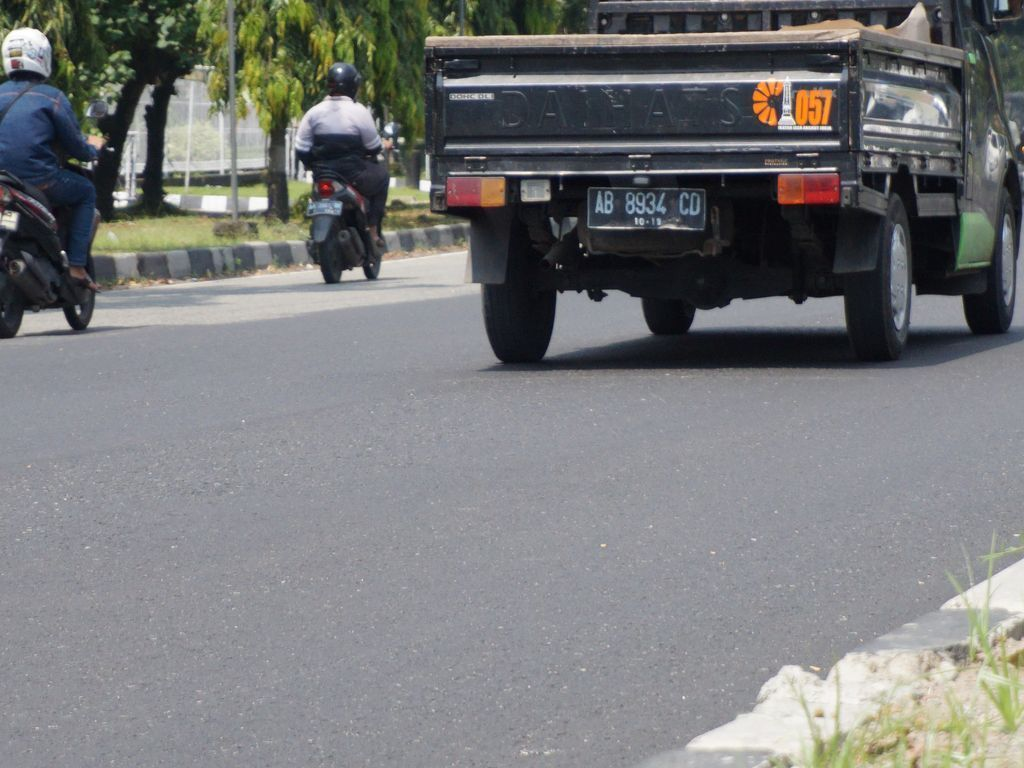plate: (590, 190, 703, 227)
